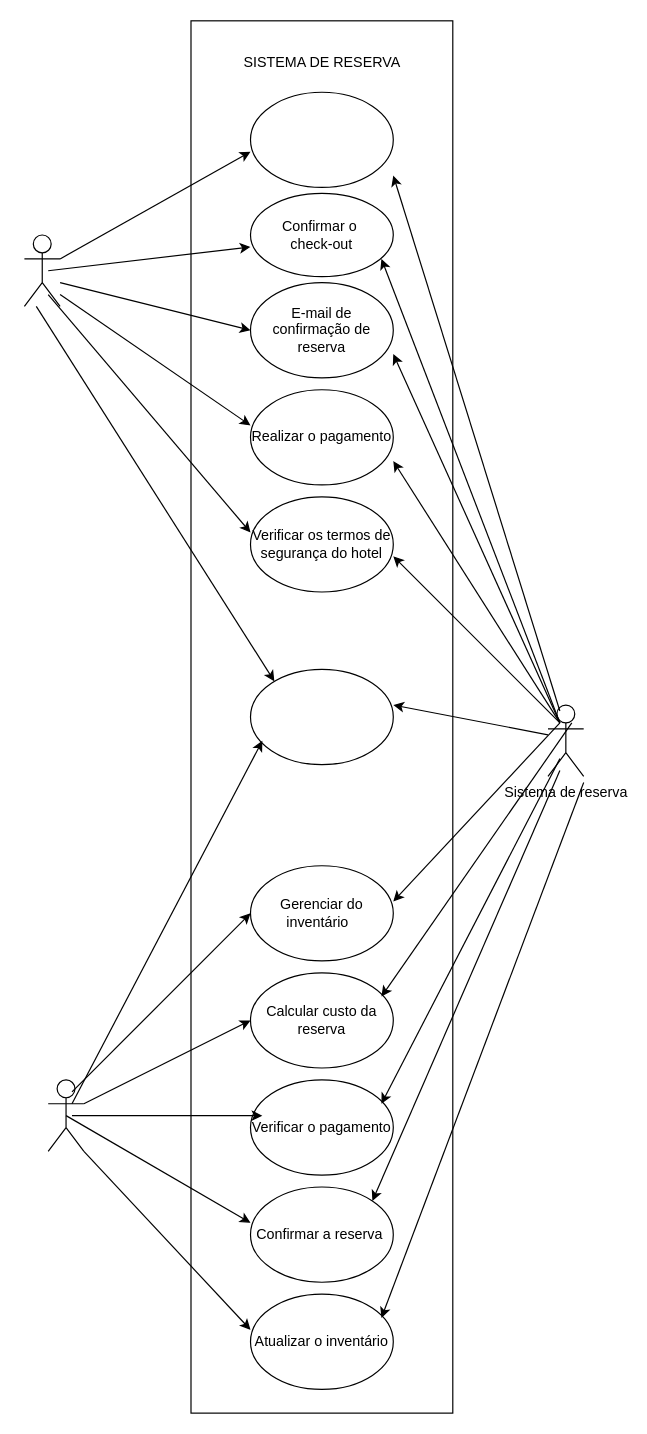
Image size: 647x1434. Some labels were removed from this diagram. The shapes that lost their labels are listed below. From the top down, each one's centre as x and y in pixels, then its label:
the point at 321,139: Solicitar o chek-in
the point at 41,270: Cliente
the point at 321,716: Verificar disponibilidade de quartos
the point at 65,1115: Gerente
